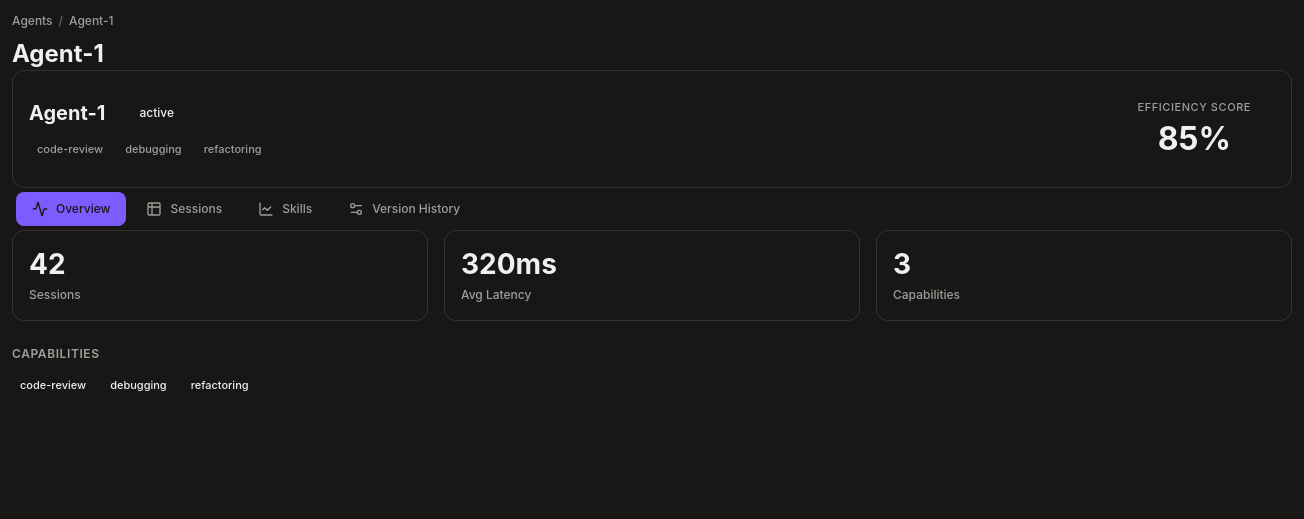
AgentDetailPage › switches to Skills tab and shows chart
Step 1. Click the tab "Skills" → (285, 209), box [242, 192, 328, 226]
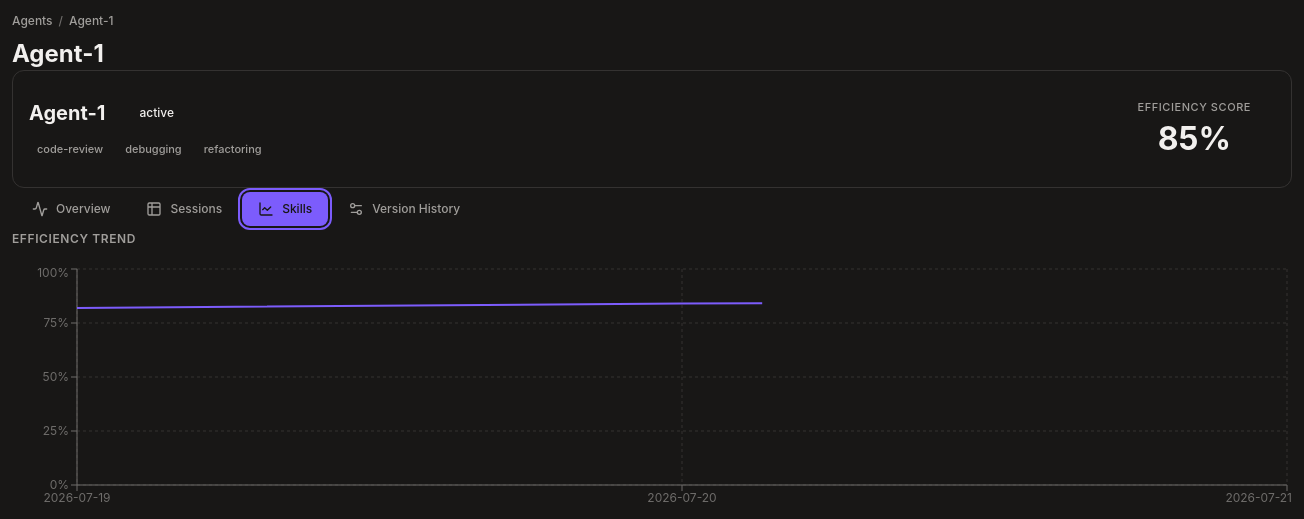
Expected: the heading "Efficiency Trend" is shown, [12, 231, 136, 246]
